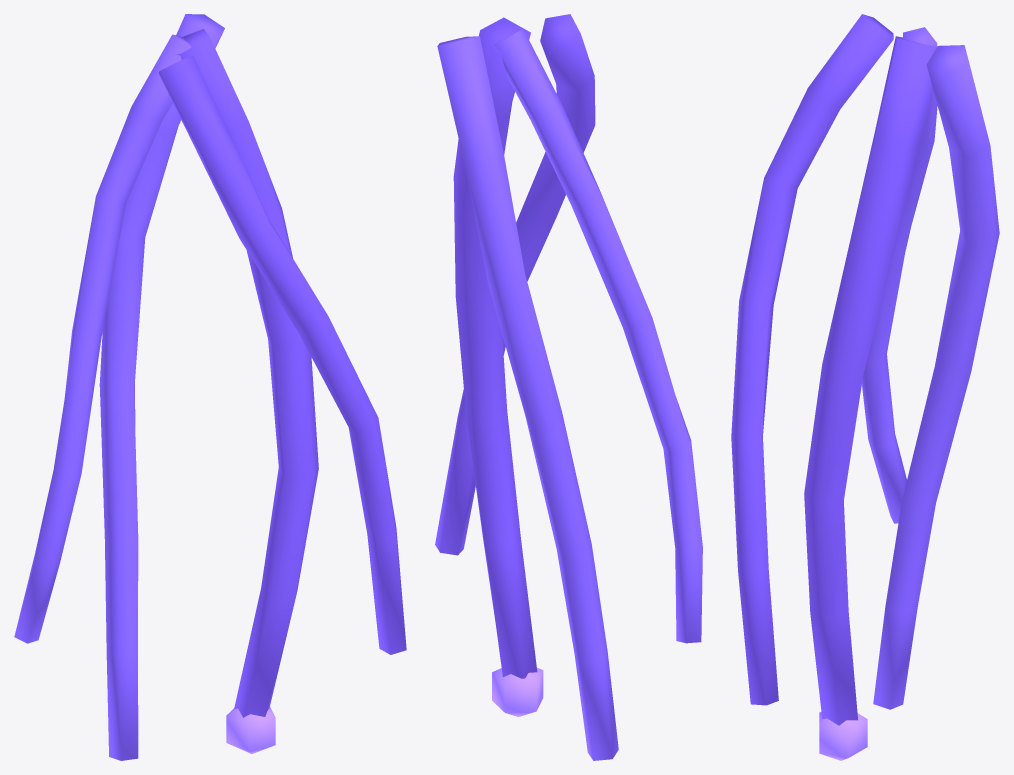
File: dc_vines_violet.glb
3 views of the same model, side by side, from view 1: azimuth 30°, elevation 25°; view 2: azimuth 150°, elevation 25°; view 3: azimuth 270°, elevation 25° (orthographic). The views are drawn at different scales.
Visible parts, largest first — view 1: part.dc_vines_violet; view 2: part.dc_vines_violet; view 3: part.dc_vines_violet.
Part boxes in pixels (x1,y1,x2,y2): part.dc_vines_violet: (14,14,406,760); part.dc_vines_violet: (435,14,702,760); part.dc_vines_violet: (731,14,999,760).
Size of the model in its own units: 0.4963 by 1.03 by 0.3484.
